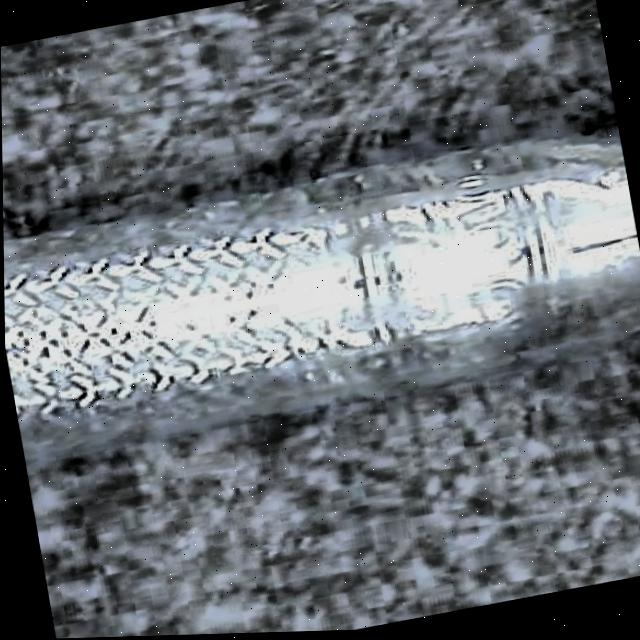plastic: (2, 115, 640, 477)
